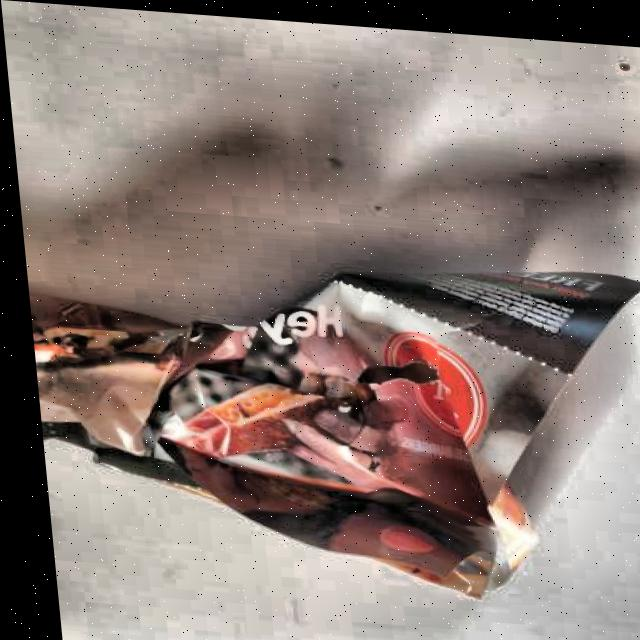paper: (22, 230, 640, 612)
